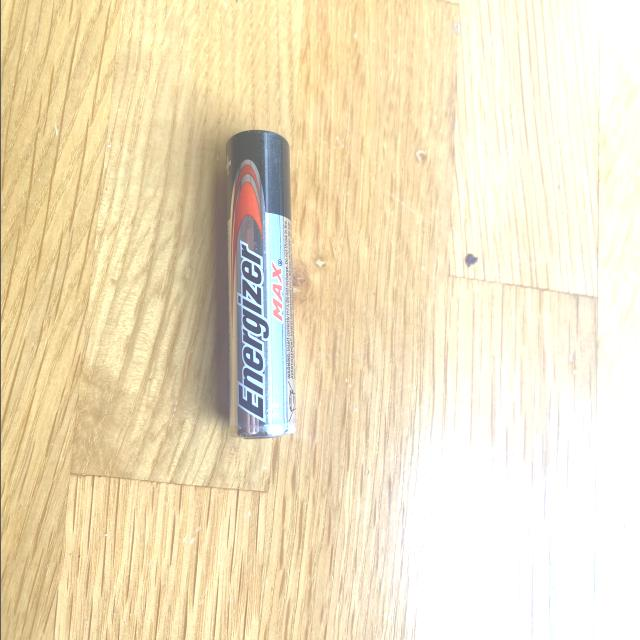AA: (219, 125, 299, 444)
